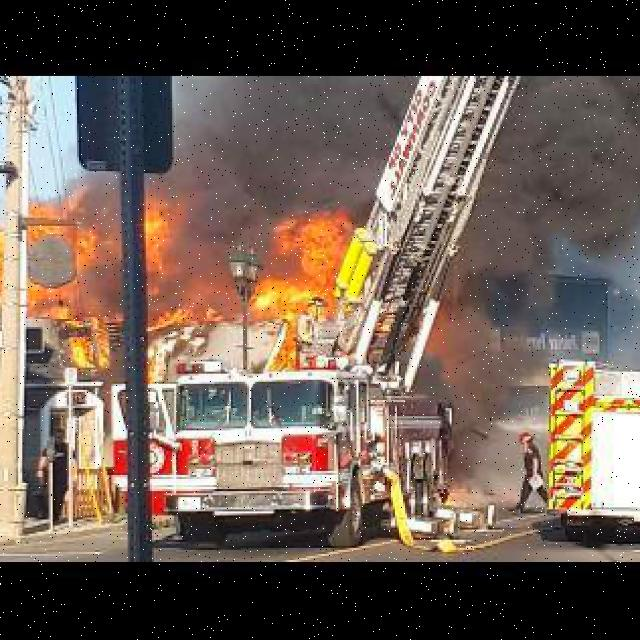fire: (8, 190, 375, 366)
smoke: (440, 285, 534, 501)
